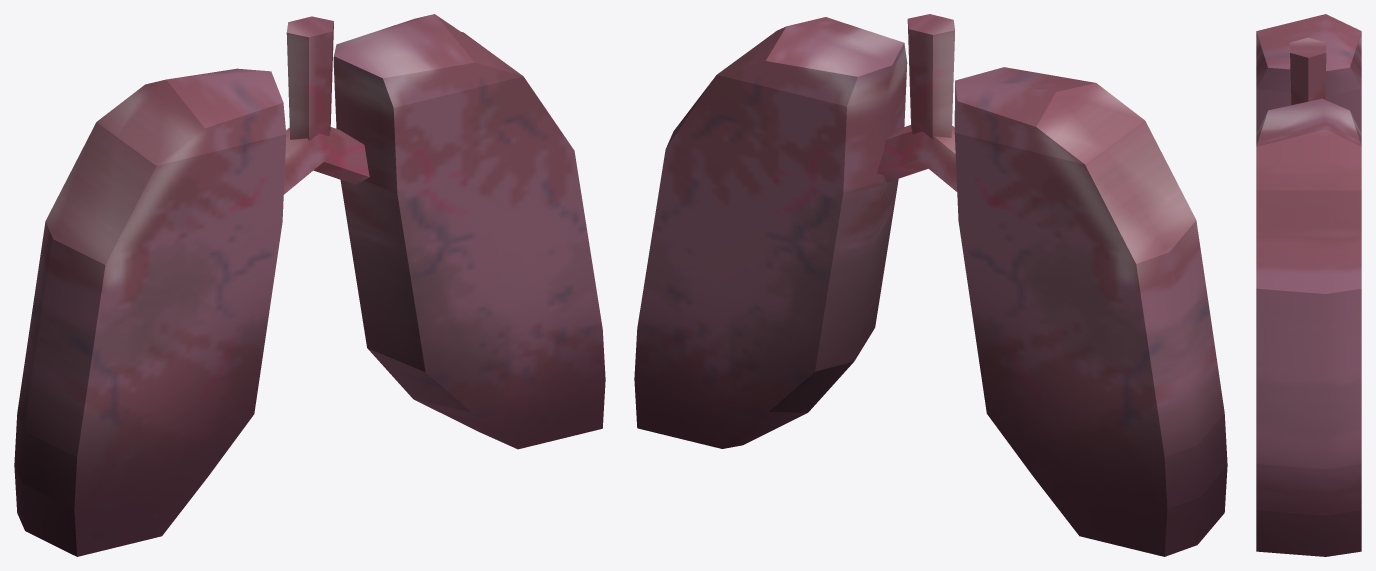
Rendered from Bludibastard.fbx.
The picture shows the model from 3 angles, left to right: view 1: azimuth 30°, elevation 25°; view 2: azimuth 150°, elevation 25°; view 3: azimuth 270°, elevation 25°; orthographic projection. The views are drawn at different scales.
Parts seen in each view (by area): view 1: pCube2; view 2: pCube2; view 3: pCube2.
Part boxes in pixels (x1,y1,x2,y2): pCube2: (14,14,605,556); pCube2: (634,14,1227,556); pCube2: (1256,14,1361,556).
Bounding box in the file's own units: 3.14 × 2.46 × 0.5865.
Materials: 1 (1 with a texture image).
